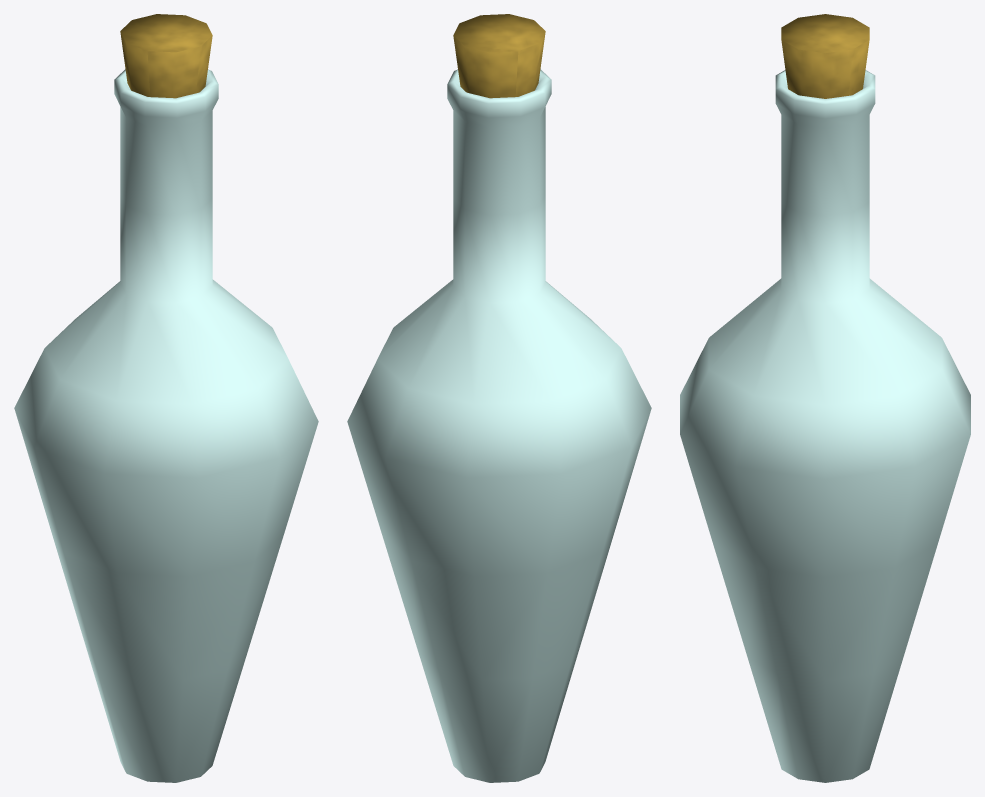
File: droplet-long_neck.glb
3 renders of one model, left to right at view 1: azimuth 30°, elevation 25°; view 2: azimuth 150°, elevation 25°; view 3: azimuth 270°, elevation 25°, orthographic.
Visible parts, largest first — view 1: droplet-long_neck, cork-droplet-long_neck; view 2: droplet-long_neck, cork-droplet-long_neck; view 3: droplet-long_neck, cork-droplet-long_neck.
Boxes of the visible parts, bbox=[...] form: droplet-long_neck: bbox=[14, 69, 318, 782]; cork-droplet-long_neck: bbox=[120, 14, 212, 98]; droplet-long_neck: bbox=[347, 69, 651, 782]; cork-droplet-long_neck: bbox=[453, 14, 545, 98]; droplet-long_neck: bbox=[680, 70, 970, 782]; cork-droplet-long_neck: bbox=[781, 14, 869, 98].
Size of the model in its own units: 0.0745 by 0.1962 by 0.0709.
2 materials, 1 textured.
